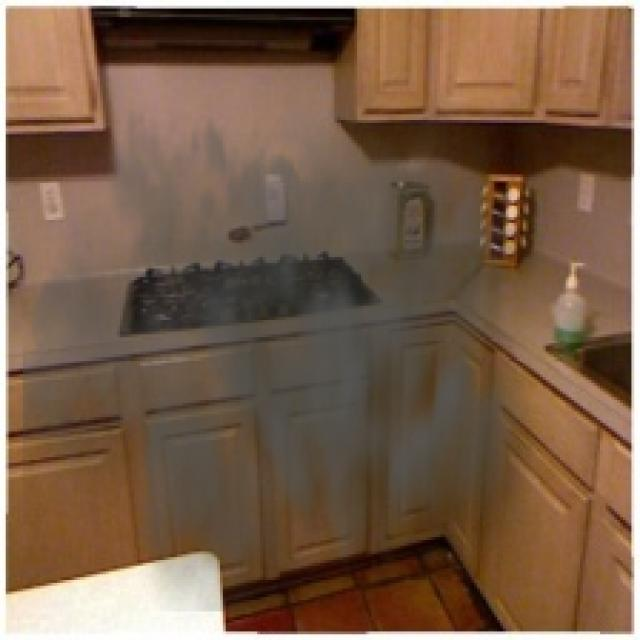smoke: (23, 57, 557, 612)
